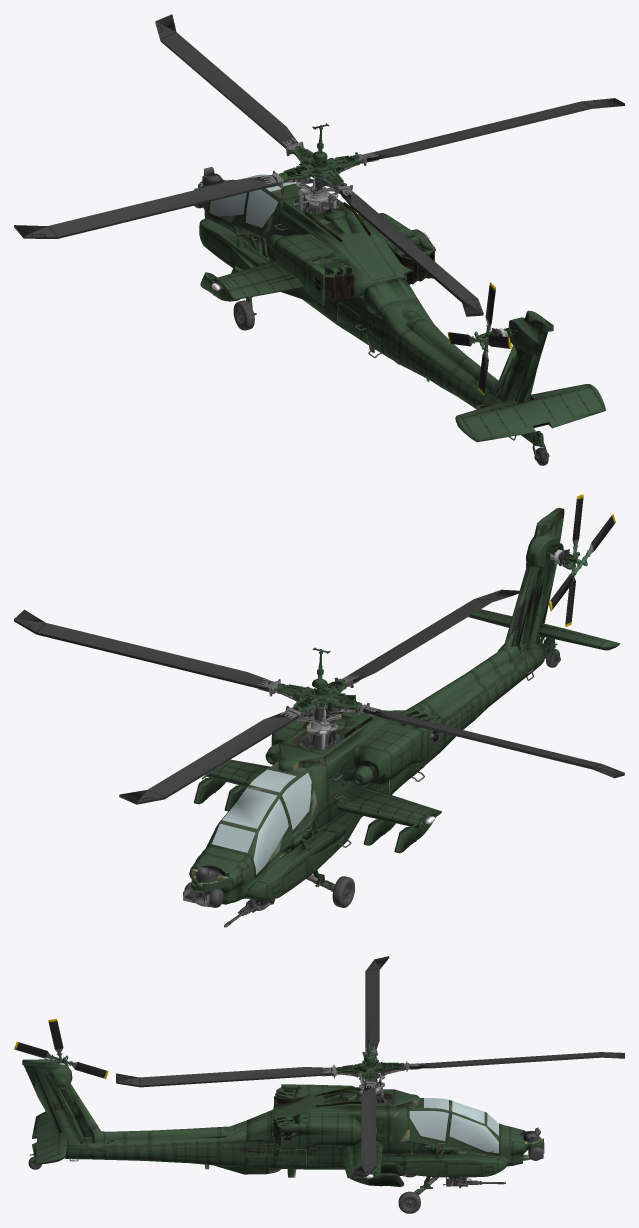
3 renders of one model, top to bottom at view 1: azimuth 30°, elevation 25°; view 2: azimuth 150°, elevation 25°; view 3: azimuth 270°, elevation 25°, orthographic. The views are drawn at different scales.
Parts seen in each view (by area): view 1: body|ah2-FACES, rotor|ah621-FACES, body|ah3-FACES, body|ah18b-FACES, body|ah1-FACES, body|ah30b-FACES, body|ah5L-FACES, body|Object01-FACES, rotor|ah23a-FACES, trotor|ah59a-FACES, body|ah21a01-FACES, body|ah54-FACES (+2 smaller); view 2: body|ah2-FACES, rotor|ah621-FACES, body|Object01-FACES, body|ah30b-FACES, body|ah5L-FACES, body|ah18b-FACES, body|ah1-FACES, body|ah23a-FACES, body|ah9L1-FACES, body|ah45c-FACES, trotor|ah59a-FACES, body|ah54-FACES (+6 smaller); view 3: body|ah1-FACES, rotor|ah621-FACES, body|Object01-FACES, body|ah18b-FACES, body|ah30b-FACES, body|ah2-FACES, body|ah3-FACES, trotor|ah59a-FACES, body|ah54-FACES, body|Object01-FACES_0, body|ah21a01-FACES, body|ah5L-FACES (+4 smaller).
Boxes of the visible parts, box(x1,y1,x2,y2) form: body|ah2-FACES: box(198, 181, 548, 460); rotor|ah621-FACES: box(14, 14, 624, 316); body|ah3-FACES: box(455, 384, 605, 441); body|ah18b-FACES: box(274, 213, 434, 289); body|ah1-FACES: box(221, 179, 553, 457); body|ah30b-FACES: box(199, 218, 312, 302); body|ah5L-FACES: box(208, 229, 435, 299); body|Object01-FACES: box(209, 174, 308, 227); rotor|ah23a-FACES: box(279, 146, 359, 189); trotor|ah59a-FACES: box(447, 282, 511, 395); body|ah21a01-FACES: box(274, 247, 433, 305); body|ah54-FACES: box(194, 167, 548, 465); body|ah2-FACES: box(198, 509, 564, 906); rotor|ah621-FACES: box(14, 589, 624, 804); body|Object01-FACES: box(206, 769, 317, 874); body|ah30b-FACES: box(194, 812, 361, 899); body|ah5L-FACES: box(201, 759, 441, 829); body|ah18b-FACES: box(271, 693, 440, 772); body|ah1-FACES: box(189, 507, 563, 890); body|ah23a-FACES: box(265, 543, 576, 785); body|ah9L1-FACES: box(194, 777, 435, 853); body|ah45c-FACES: box(183, 667, 533, 927); trotor|ah59a-FACES: box(548, 494, 615, 626); body|ah54-FACES: box(184, 649, 560, 912); body|ah1-FACES: box(22, 1060, 543, 1174); rotor|ah621-FACES: box(116, 956, 624, 1177); body|Object01-FACES: box(409, 1098, 498, 1153); body|ah18b-FACES: box(274, 1084, 357, 1137); body|ah30b-FACES: box(342, 1148, 507, 1189); body|ah2-FACES: box(23, 1059, 543, 1177); body|ah3-FACES: box(32, 1111, 68, 1164); trotor|ah59a-FACES: box(14, 1018, 108, 1078); body|ah54-FACES: box(28, 1127, 542, 1213); body|Object01-FACES_0: box(409, 1098, 498, 1151); body|ah21a01-FACES: box(273, 1097, 357, 1149); body|ah5L-FACES: box(339, 1141, 389, 1177).
Bounding box in the file's own units: 14.63 × 5.13 × 17.52.
29 materials, 19 textured.
